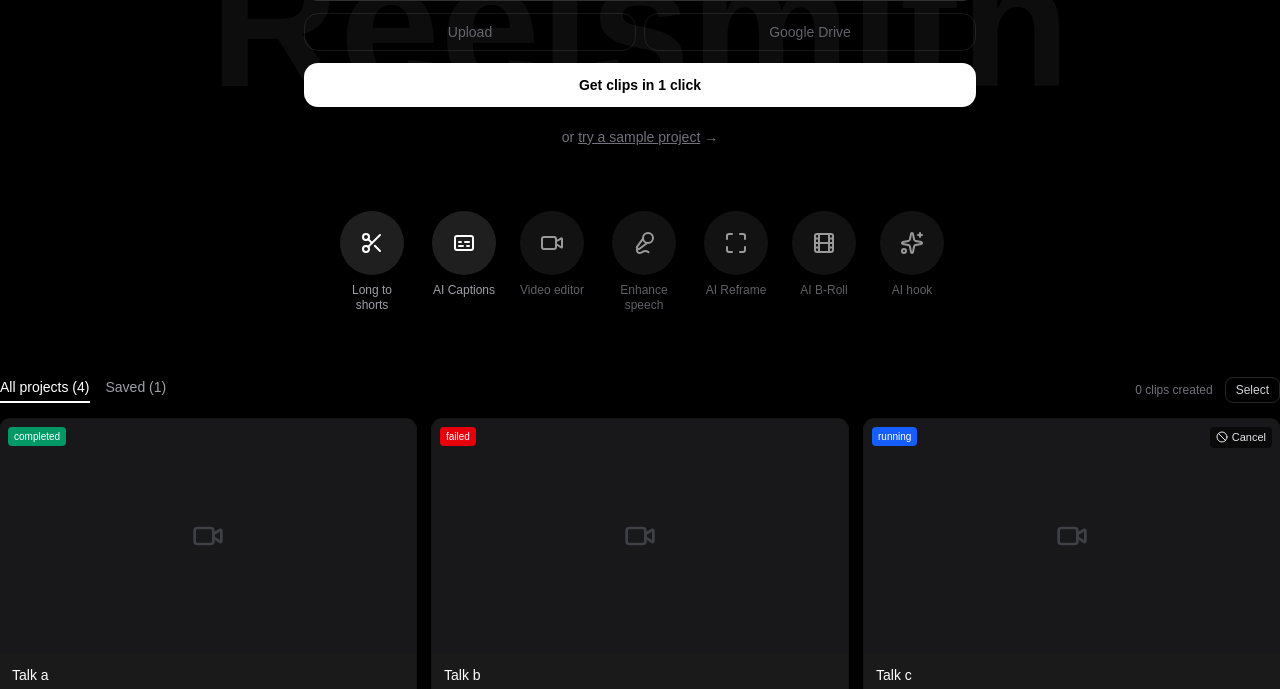
home page: select and delete › reports the jobs that could not be deleted and still deletes the rest
This screenshot has width=1280, height=689.
Expected: the text "Talk a" is shown, [12,667,49,683]
What coordinates should you click on to do the following:
click the button "Select"
I would click on:
 (1252, 390)
Its box is [1225,377,1279,403].
(page scrolled)
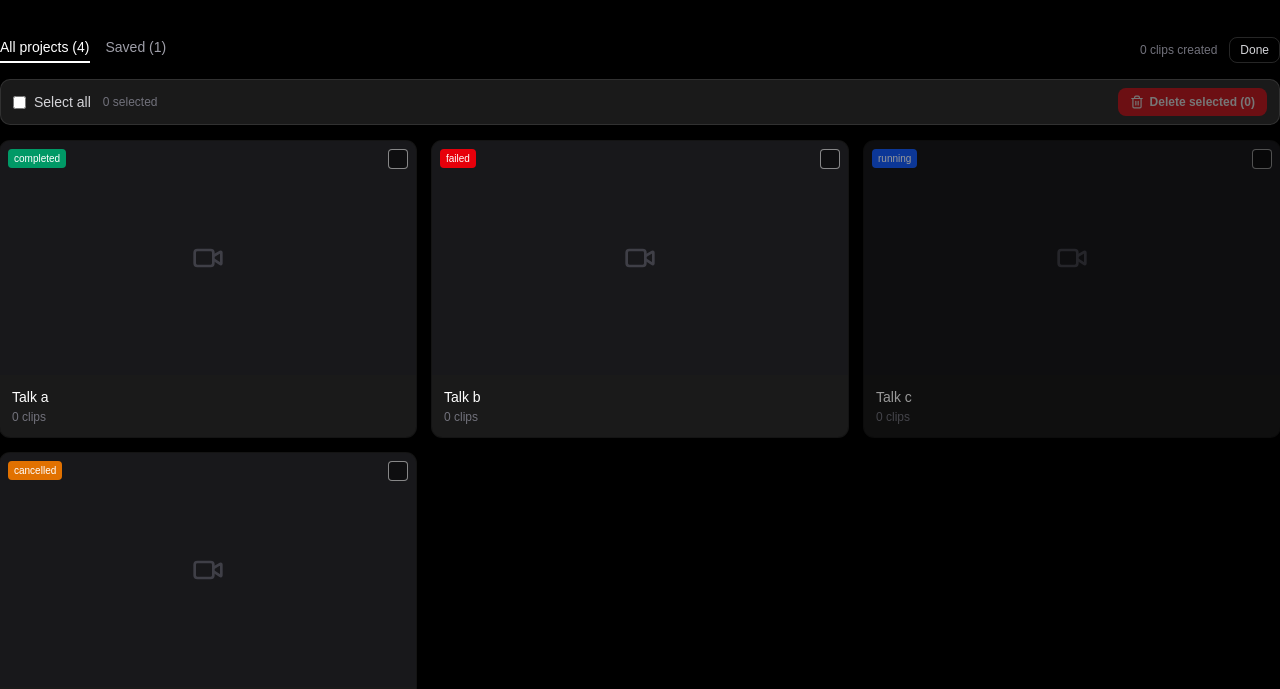
What coordinates should you click on to do the following:
click the text "Talk a"
I would click on:
 (208, 289)
Its box is [0,141,416,437].
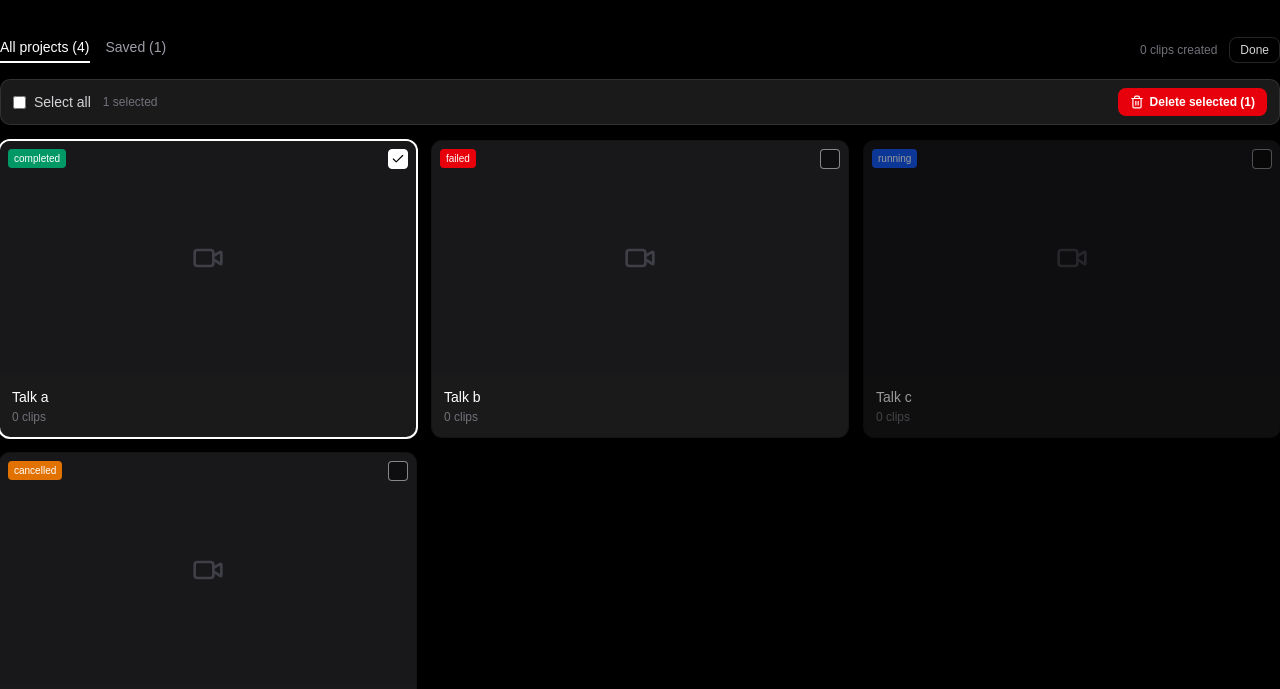
What coordinates should you click on to do the following:
click the text "Talk b"
I would click on:
 (640, 289)
Its box is [432,141,848,437].
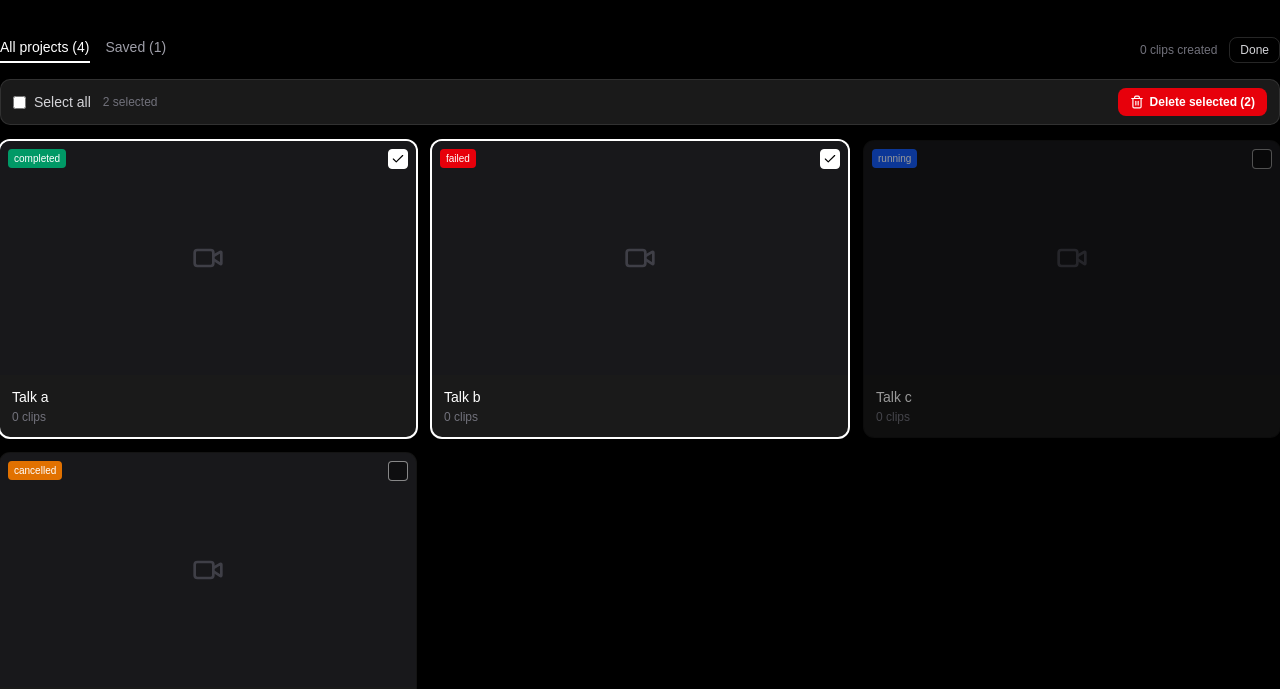
What coordinates should you click on to do the following:
click the button "Delete selected (2)"
I would click on:
 (1192, 102)
Its box is [1118,88,1267,116].
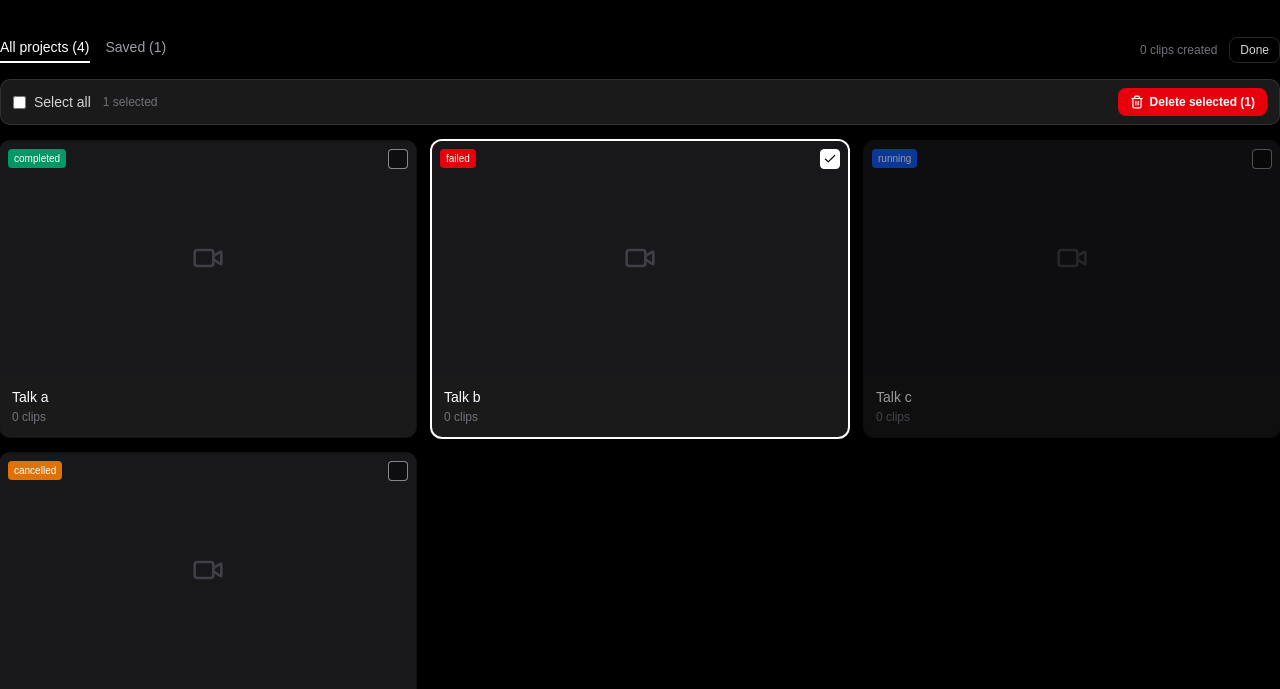
Now the button "Delete selected (1)" is shown, box [1118,88,1267,116]
